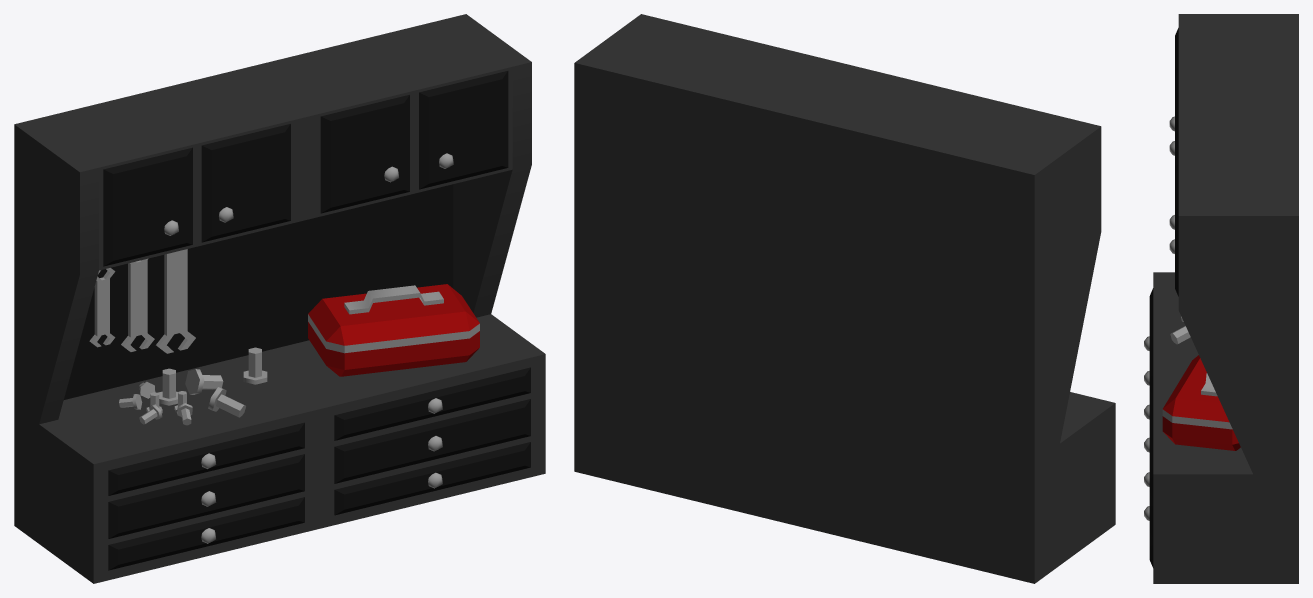
File: WorkBenchNToolBox.FBX
3 renders of one model, left to right at view 1: azimuth 30°, elevation 25°; view 2: azimuth 150°, elevation 25°; view 3: azimuth 270°, elevation 25°, orthographic. The views are drawn at different scales.
Parts seen in each view (by area): view 1: Box002; view 2: Box002; view 3: Box002.
Boxes of the visible parts, left/top/right/bottom form: Box002: left=14, top=14, right=545, bottom=583; Box002: left=574, top=14, right=1115, bottom=583; Box002: left=1144, top=14, right=1298, bottom=583.
Size of the model in its own units: 298 by 253 by 96.52.
